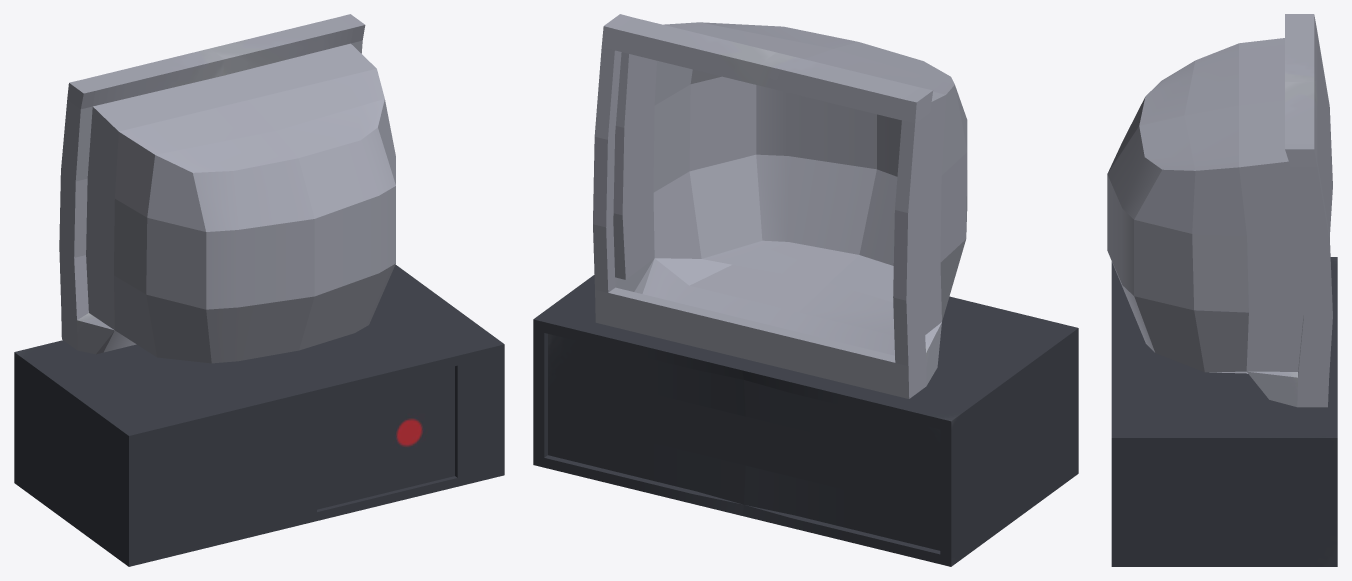
The model's file is computer.fbx.
The picture shows the model from 3 angles, left to right: view 1: azimuth 30°, elevation 25°; view 2: azimuth 150°, elevation 25°; view 3: azimuth 270°, elevation 25°; orthographic projection. The views are drawn at different scales.
Visible parts, largest first — view 1: computer_sculpt:RoadKillOut; view 2: computer_sculpt:RoadKillOut; view 3: computer_sculpt:RoadKillOut.
Part boxes in pixels (x1=…): computer_sculpt:RoadKillOut: x1=14, y1=14, x2=504, y2=566; computer_sculpt:RoadKillOut: x1=533, y1=14, x2=1078, y2=566; computer_sculpt:RoadKillOut: x1=1107, y1=14, x2=1337, y2=566.
Bounding box in the file's own units: 1.93 × 1.96 × 1.04.
Materials: 1 (1 with a texture image).
